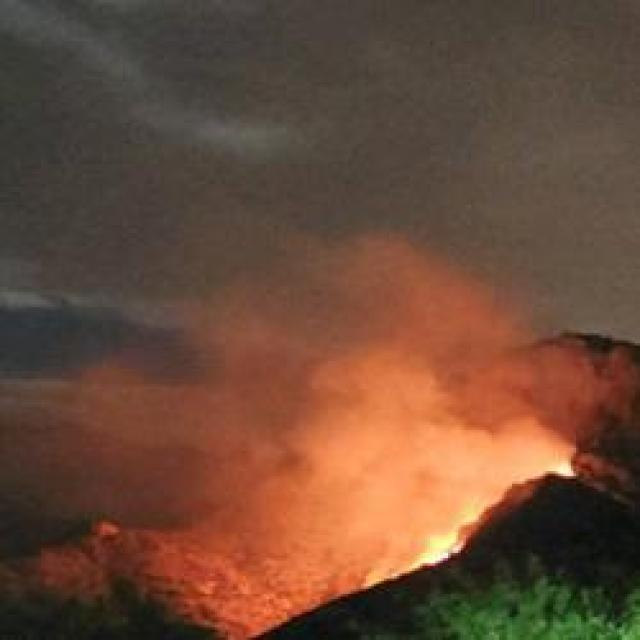Fire: (424, 530, 466, 564), (546, 452, 582, 480)
Smoke: (326, 404, 460, 542)
